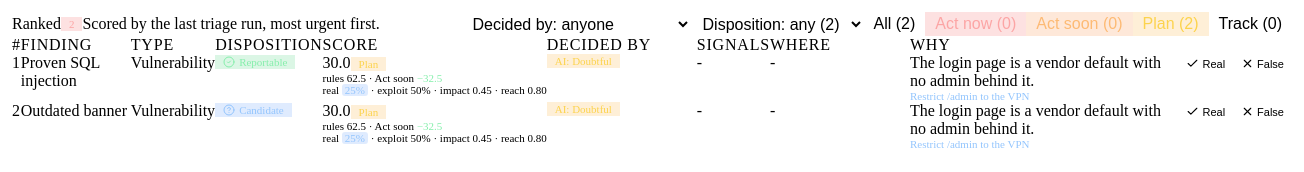
Test: disposition on the board (plan 10.2b) › a filter that matches nothing says so
The image size is (1304, 172).
Expected: the button "Outdated banner" is shown, top-left (21, 102), bottom-right (127, 120)
Select "Excluded (0)" in the dropdown named "Disposition": (777, 24) top-left (690, 12), bottom-right (864, 36)
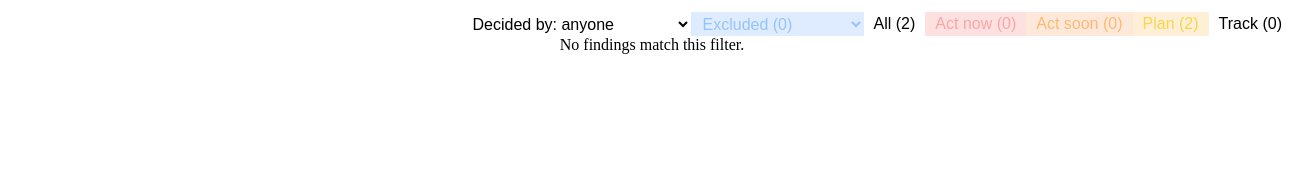
Result: the text "No findings match this filter." is shown at top-left (560, 36), bottom-right (744, 53)
